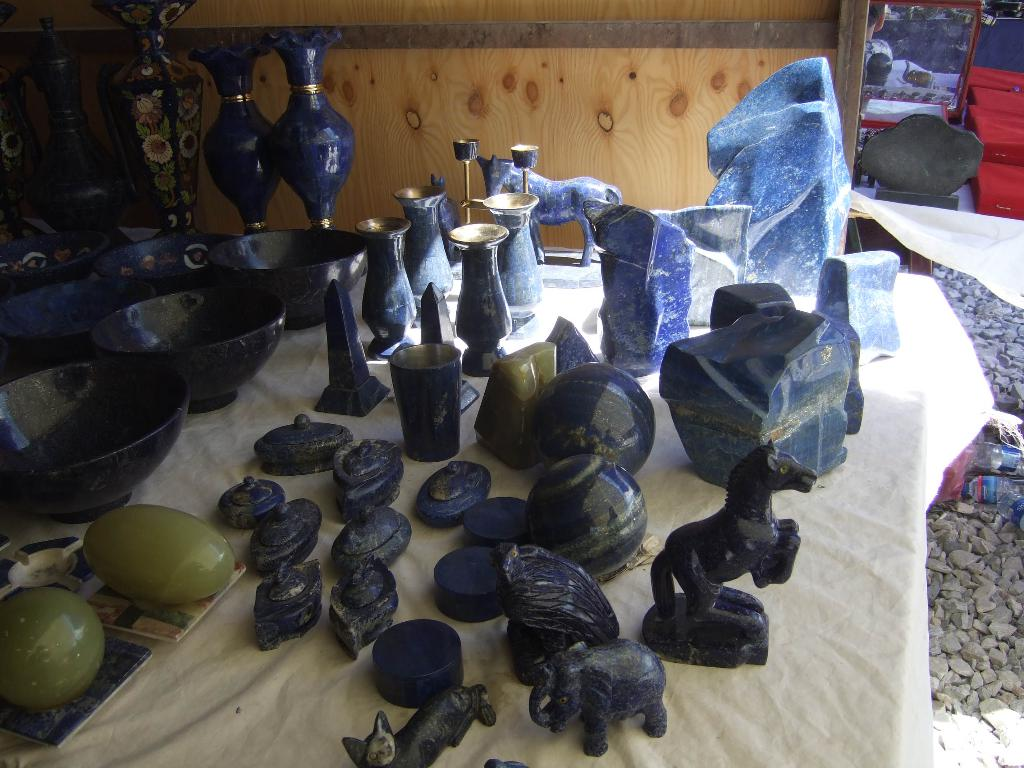Ball: (92, 504, 236, 602), (0, 590, 100, 712)
